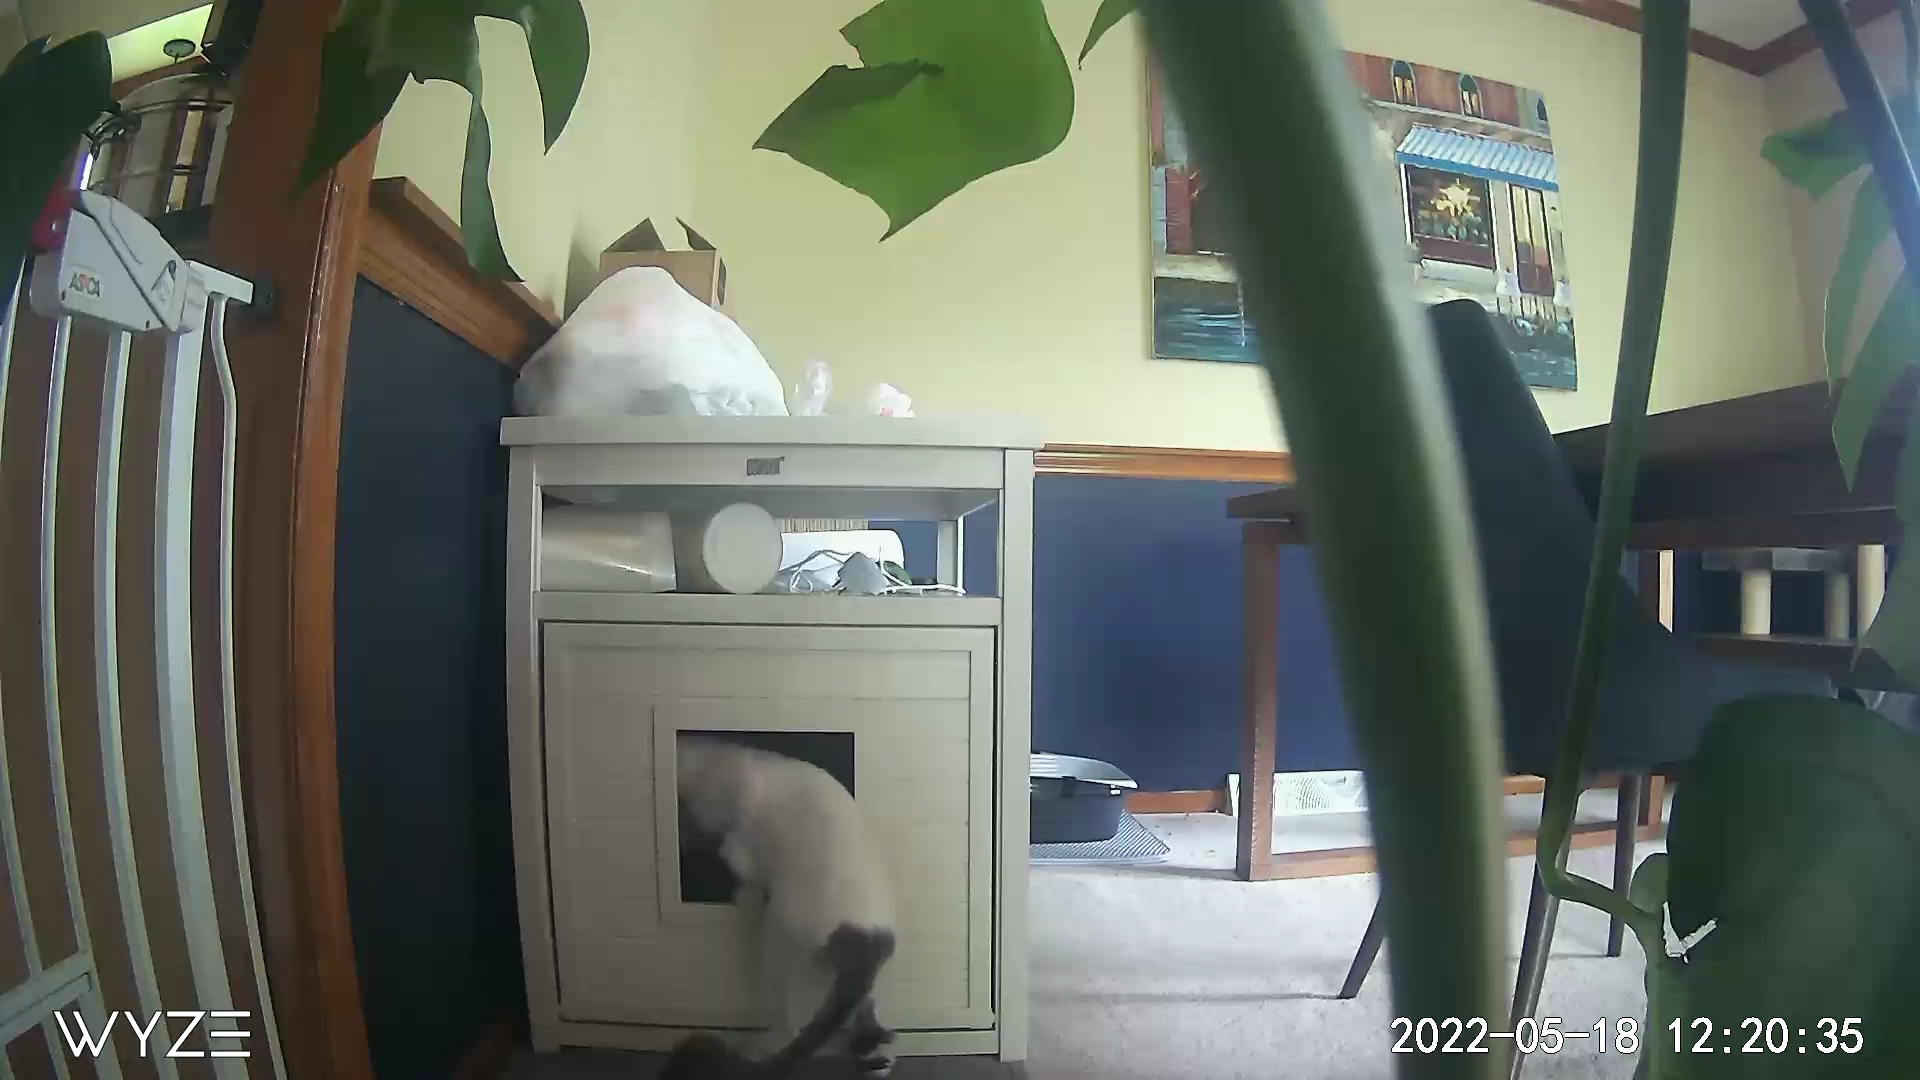maoxin: (674, 741, 926, 1080)
